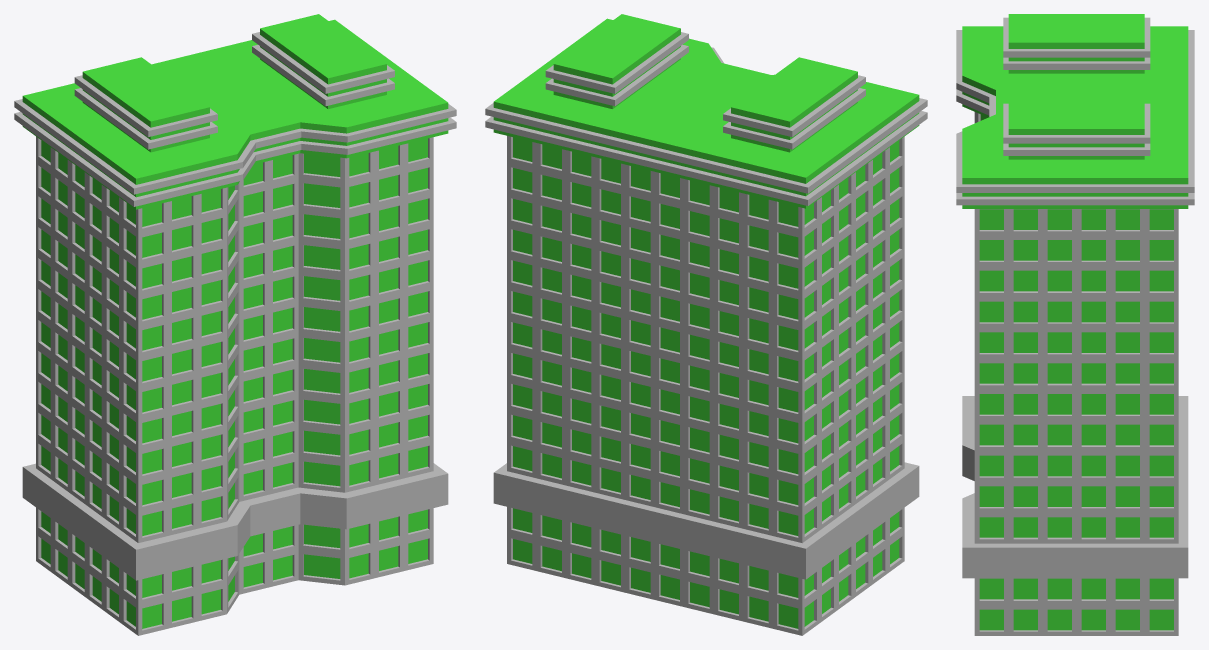
File: Building5.fbx
The picture shows the model from 3 angles, left to right: view 1: azimuth 30°, elevation 25°; view 2: azimuth 150°, elevation 25°; view 3: azimuth 270°, elevation 25°; orthographic projection.
Parts seen in each view (by area): view 1: Building5; view 2: Building5; view 3: Building5.
Part boxes in pixels (x1,y1,x2,y2): Building5: (14,14,456,635); Building5: (485,14,927,635); Building5: (956,14,1194,635).
Size of the model in its own units: 1093 by 1600 by 702.
